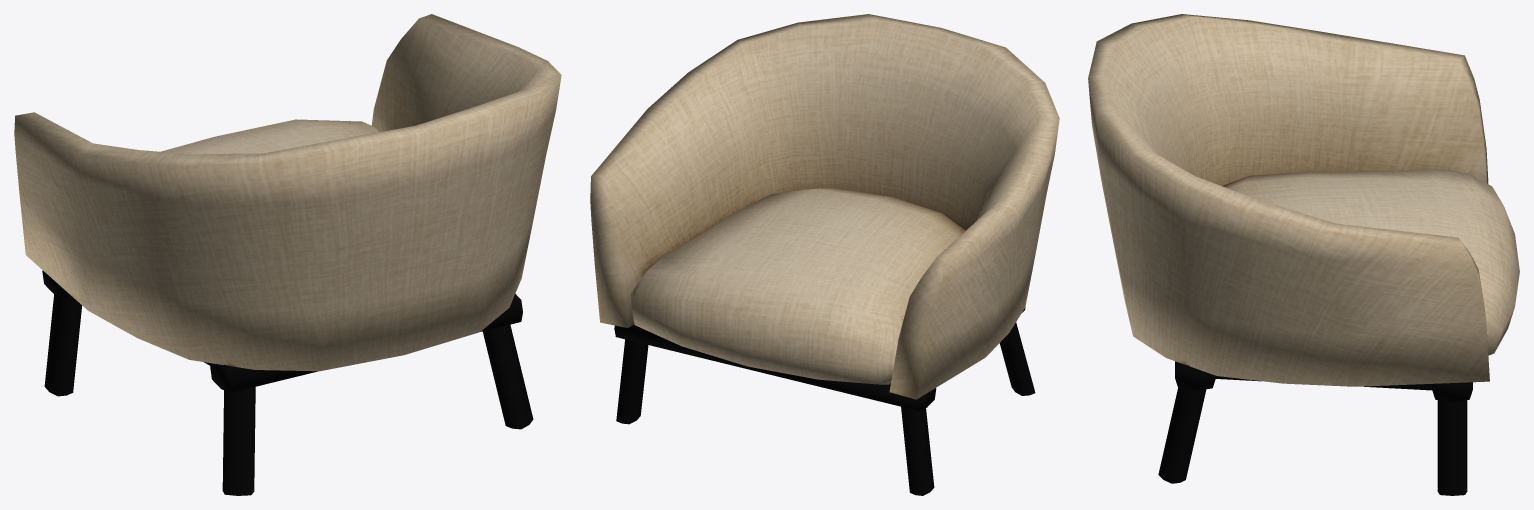
Rendered from FUR0210038.fbx.
3 renders of one model, left to right at view 1: azimuth 30°, elevation 25°; view 2: azimuth 150°, elevation 25°; view 3: azimuth 270°, elevation 25°, orthographic. The views are drawn at different scales.
Parts seen in each view (by area): view 1: smFUR0210038; view 2: smFUR0210038; view 3: smFUR0210038.
Boxes of the visible parts, x1,y1,x2,y2 form: smFUR0210038: [14, 14, 561, 495]; smFUR0210038: [590, 14, 1059, 495]; smFUR0210038: [1088, 14, 1519, 495].
Size of the model in its own units: 120 by 93.99 by 109.
Materials: 1 (1 with a texture image).
